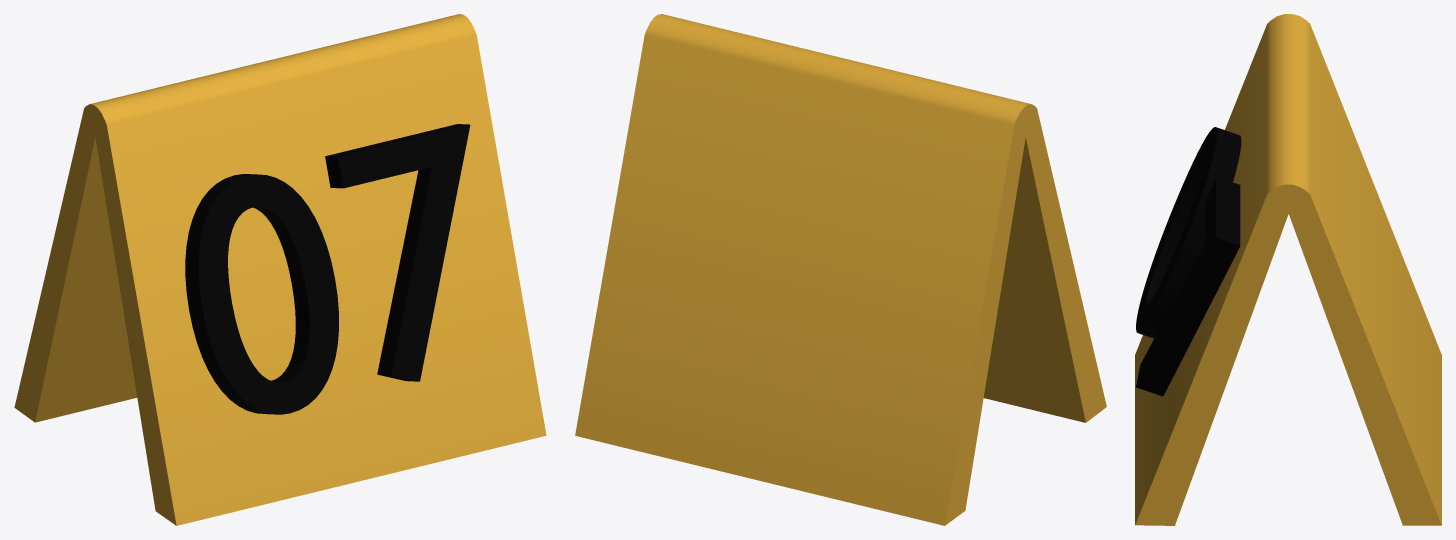
The picture shows the model from 3 angles, left to right: view 1: azimuth 30°, elevation 25°; view 2: azimuth 150°, elevation 25°; view 3: azimuth 270°, elevation 25°; orthographic projection. The views are drawn at different scales.
Parts seen in each view (by area): view 1: Bordje, Text.006; view 2: Bordje; view 3: Bordje, Text.006.
Part boxes in pixels (x1,y1,x2,y2): Bordje: [14, 14, 546, 525]; Text.006: [185, 124, 470, 414]; Bordje: [575, 14, 1106, 525]; Bordje: [1135, 14, 1441, 525]; Text.006: [1136, 127, 1241, 396].
Size of the model in its own units: 342 by 319 by 260.
